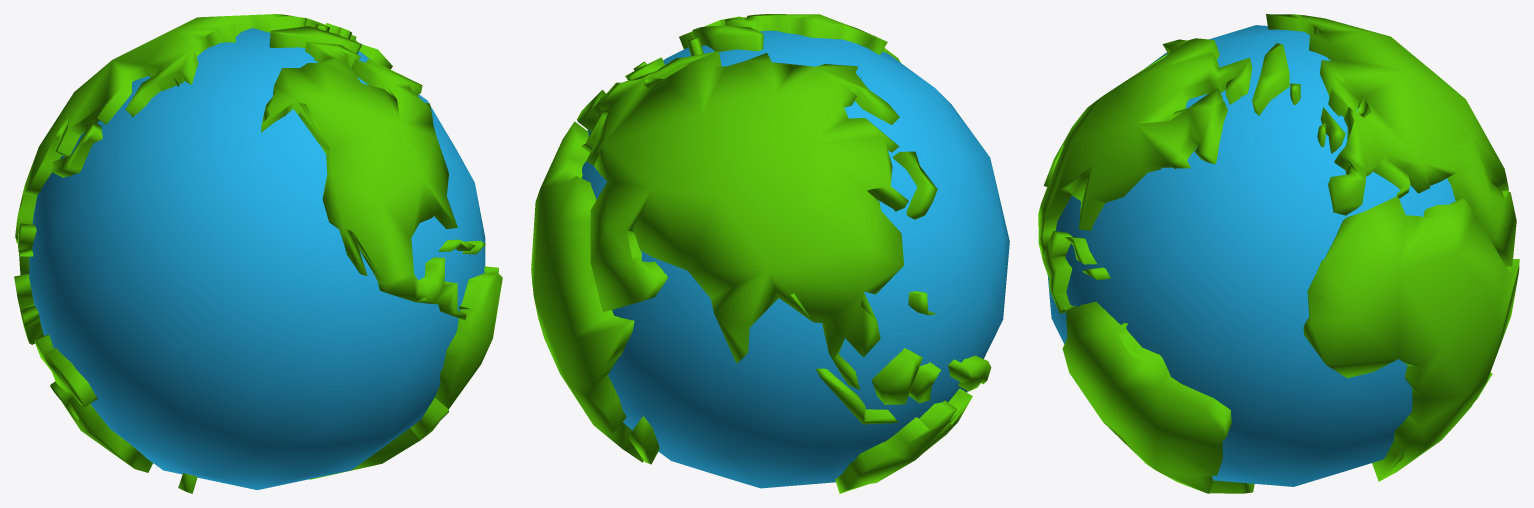
File: NOVELO_EARTH.obj
The picture shows the model from 3 angles, left to right: view 1: azimuth 30°, elevation 25°; view 2: azimuth 150°, elevation 25°; view 3: azimuth 270°, elevation 25°; orthographic projection.
Visible parts, largest first — view 1: Earth.1; view 2: Earth.1; view 3: Earth.1.
Part boxes in pixels (left/top/right/bottom): Earth.1: left=14, top=14, right=502, bottom=493; Earth.1: left=531, top=14, right=1009, bottom=493; Earth.1: left=1038, top=14, right=1519, bottom=493.
Size of the model in its own units: 666 by 673 by 667.
